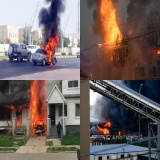fire: (101, 1, 123, 48), (29, 81, 47, 135), (42, 31, 60, 65), (95, 120, 112, 136), (118, 129, 122, 136), (157, 48, 160, 54)
